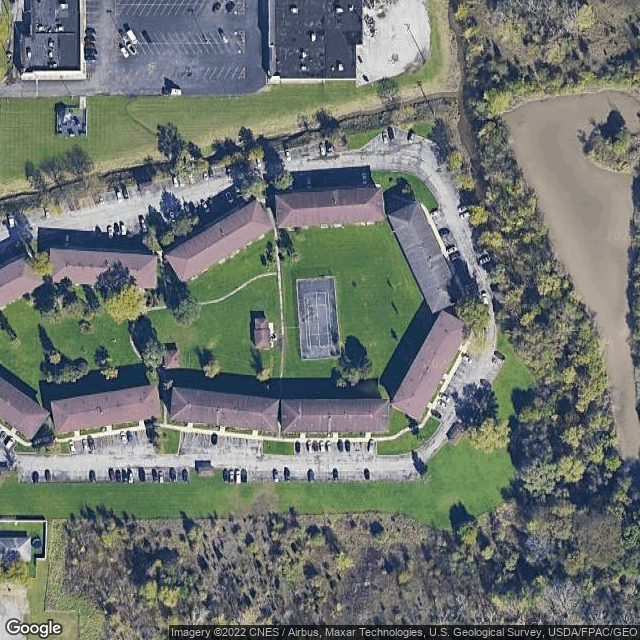Court: (303, 289, 334, 351)
